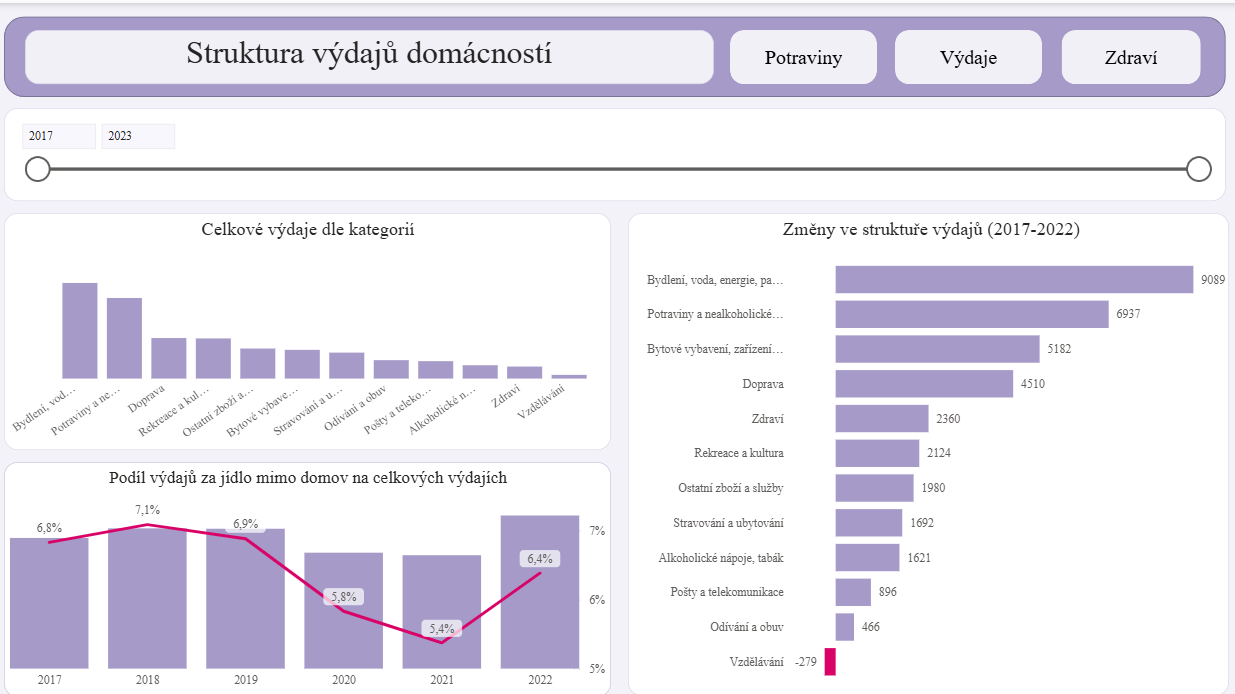

This screenshot's page, from the dashboard's own definition file:
{"tool":"powerbi","page":{"name":"Výdaje domácností","canvas":[1280,720],"ordinal":2},"visuals":[{"type":"clusteredBarChart","title":"Změny ve struktuře výdajů (2017-2022)","fields":{"Category":["Fact_Vydaje_Domacnosti.Kategorie"],"Y":["Fact_Vydaje_Domacnosti.Rozdil_2017_2022"]},"box":[656.5,212.6,606.4,487.7],"z":0},{"type":"lineStackedColumnComboChart","title":"Podíl výdajů za jídlo mimo domov na celkových výdajích","fields":{"Category":["Fact_Vydaje_Domacnosti.Rok"],"Y":["Fact_Vydaje_Domacnosti.Vydaje_Stravovani"],"Y2":["Fact_Vydaje_Domacnosti.Podil_na_celkovych_vydajich"]},"box":[26.6,462.6,612.7,237.6],"z":1000},{"type":"clusteredColumnChart","title":"Celkové výdaje dle kategorií","fields":{"Category":["Fact_Vydaje_Domacnosti.Kategorie"],"Y":["Sum(Fact_Vydaje_Domacnosti.Výdaje)"]},"box":[26.6,212.6,612.7,239.1],"z":2000},{"type":"slicer","fields":{"Values":["Dim_Rok.Rok"]},"box":[26.6,106.3,1233.2,93.8],"z":3000},{"type":"shape","box":[26.6,14.1,1233.2,81.3],"z":4000},{"type":"textbox","box":[48.5,26.6,695.5,54.7],"z":5000},{"type":"actionButton","box":[759.6,26.6,148.5,54.7],"z":6000},{"type":"actionButton","box":[926.9,26.6,148.5,54.7],"z":7000},{"type":"actionButton","box":[1094.1,26.6,140.7,54.7],"z":8000}]}

Visuals, with their boxes in screenshot pixels (x1, y1, x2, y2), scaled from the page's 1280x720 canvas onto the 1235x694 screenshot:
"Změny ve struktuře výdajů (2017-2022)" clusteredBarChart: 633/205/1219/675
"Podíl výdajů za jídlo mimo domov na celkových výdajích" lineStackedColumnComboChart: 26/446/617/675
"Celkové výdaje dle kategorií" clusteredColumnChart: 26/205/617/435
slicer - Dim_Rok.Rok: 26/102/1216/193
shape: 26/14/1216/92
textbox: 47/26/718/78
actionButton: 733/26/876/78
actionButton: 894/26/1038/78
actionButton: 1056/26/1191/78
